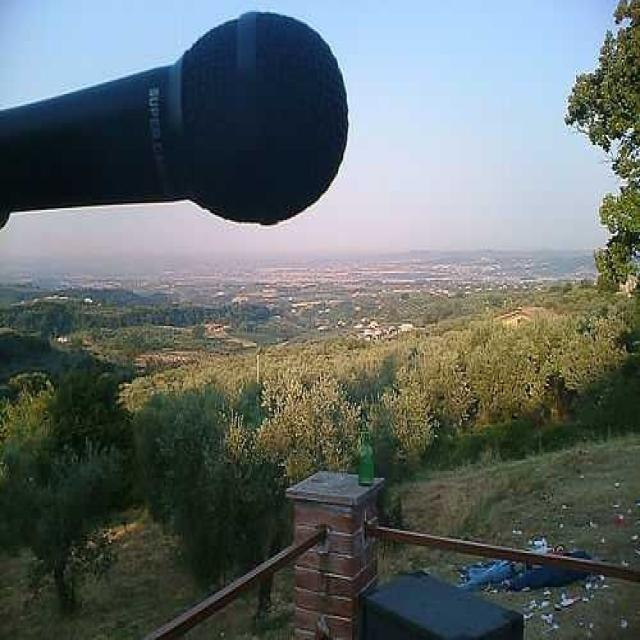microphone: (5, 11, 344, 248)
